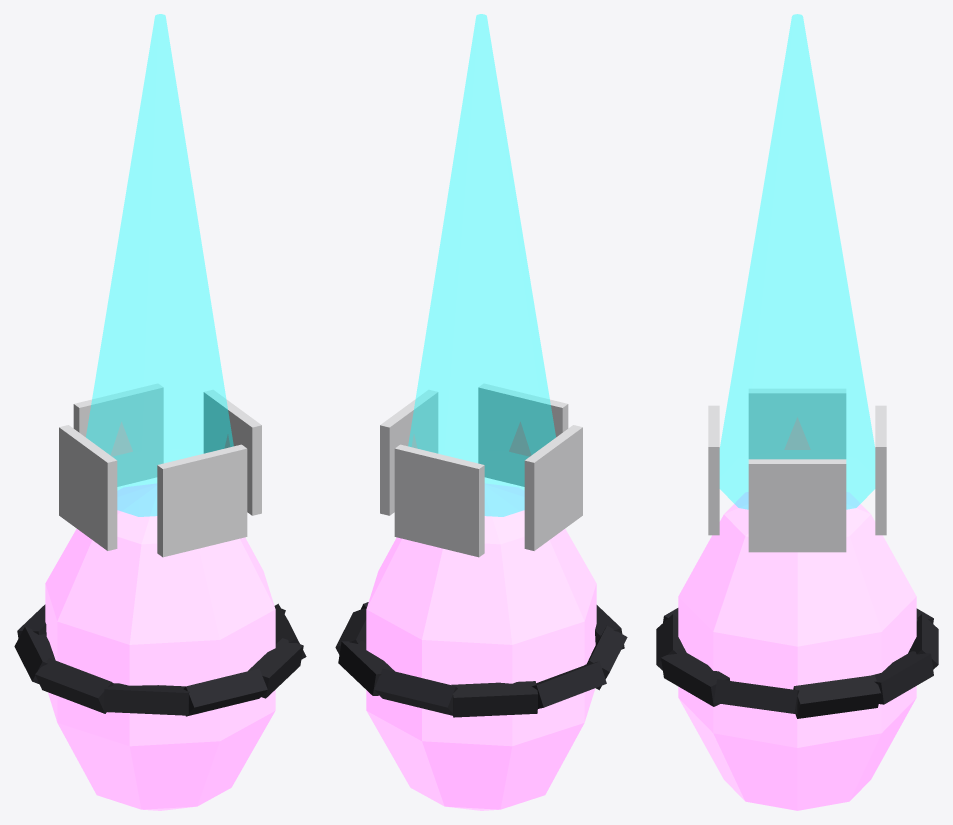
The model's file is Proj_PlasmaBomb.fbx.
3 renders of one model, left to right at view 1: azimuth 30°, elevation 25°; view 2: azimuth 150°, elevation 25°; view 3: azimuth 270°, elevation 25°, orthographic.
Parts seen in each view (by area): view 1: Bomb_Shell, Bomb_Trail, Bomb_Band, Bomb_Fin3, Bomb_Fin1, Bomb_Fin2, Bomb_Fin0; view 2: Bomb_Shell, Bomb_Trail, Bomb_Band, Bomb_Fin1, Bomb_Fin3, Bomb_Fin2, Bomb_Fin0; view 3: Bomb_Shell, Bomb_Trail, Bomb_Band, Bomb_Fin0, Bomb_Fin2, Bomb_Fin1, Bomb_Fin3.
Part boxes in pixels (<box>): Bomb_Shell: <box>45,483,275,810</box>; Bomb_Trail: <box>86,14,233,516</box>; Bomb_Band: <box>14,603,306,716</box>; Bomb_Fin3: <box>157,444,247,557</box>; Bomb_Fin1: <box>73,383,163,486</box>; Bomb_Fin2: <box>59,425,117,550</box>; Bomb_Fin0: <box>203,390,261,515</box>; Bomb_Shell: <box>366,483,596,810</box>; Bomb_Trail: <box>408,14,555,516</box>; Bomb_Band: <box>335,602,627,717</box>; Bomb_Fin1: <box>394,444,484,557</box>; Bomb_Fin3: <box>478,383,568,486</box>; Bomb_Fin2: <box>524,425,582,550</box>; Bomb_Fin0: <box>380,390,438,515</box>; Bomb_Shell: <box>678,492,916,810</box>; Bomb_Trail: <box>720,14,874,509</box>; Bomb_Band: <box>656,608,938,718</box>; Bomb_Fin0: <box>748,459,846,552</box>; Bomb_Fin2: <box>748,388,846,459</box>; Bomb_Fin1: <box>875,405,886,535</box>; Bomb_Fin3: <box>708,405,719,535</box>.
Bounding box in the file's own units: 0.1053 × 0.315 × 0.1014.
